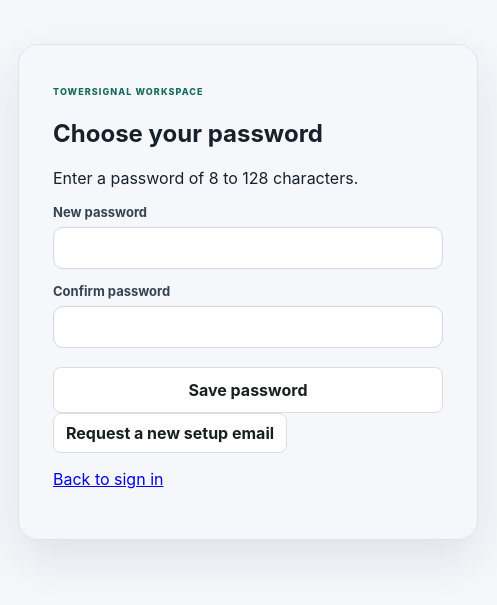
Test: failed saves stay recoverable and are never reported as success
The width and height of the screenshot is (497, 605).
Type "a-test-password" into the password field labelled "New password" at (248, 248), box [53,227,443,269]
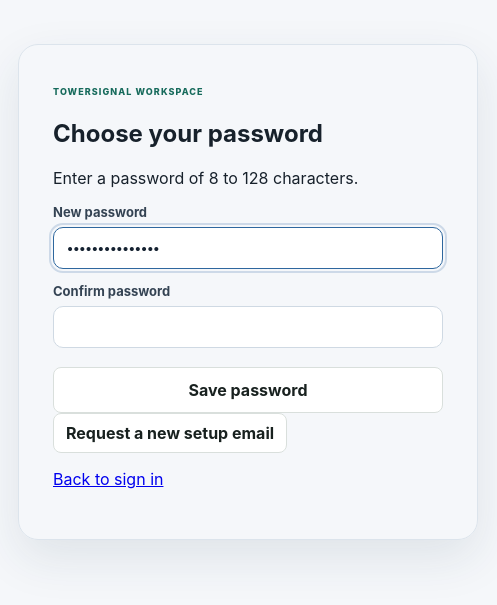
Type "a-test-password" into the password field labelled "Confirm password" at (248, 327), box [53,306,443,348]
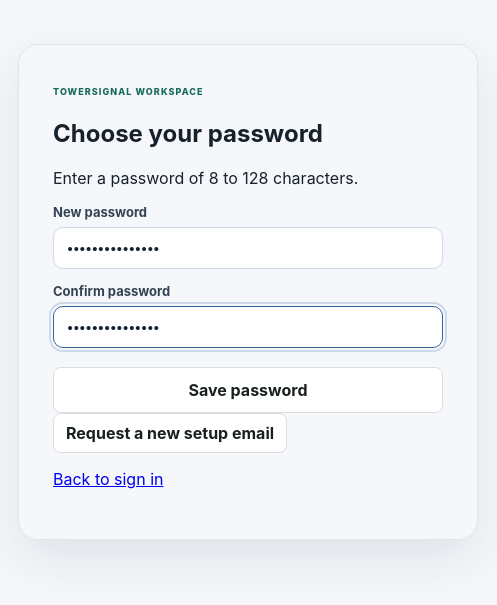
Click the button "Save password" at (248, 390), box [53,367,443,413]
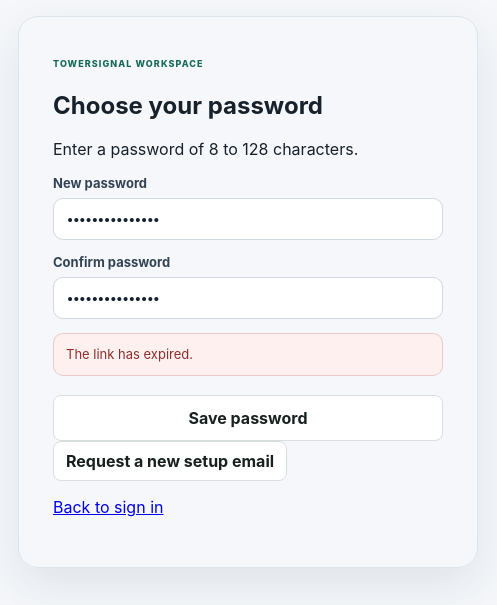
Now the message shows "expired", box [66,346,193,362]
Click the button "Request a new setup email" at (170, 461), box [53,441,287,481]
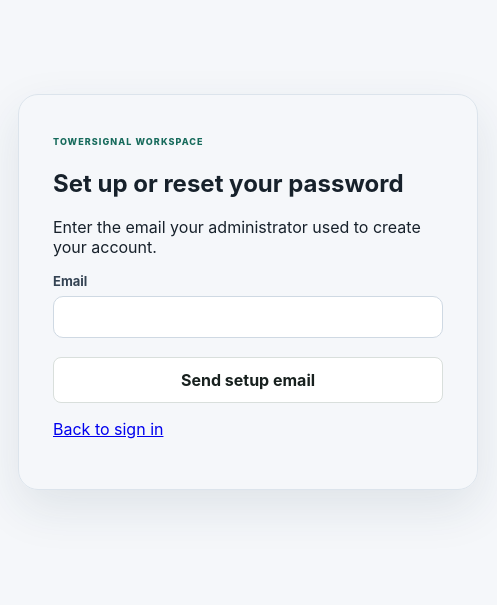
Now the field labelled "Email" is shown, box [53,296,443,338]
Now the label labelled "New password" is gone
